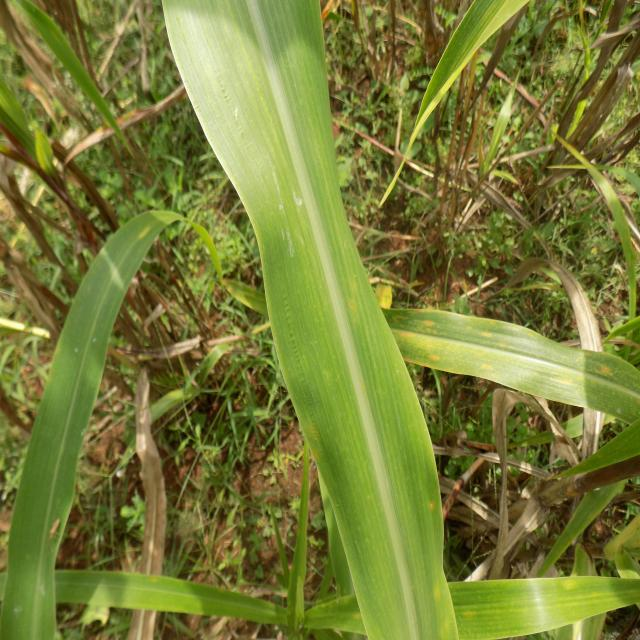millet_healthy: (159, 0, 462, 640), (0, 197, 223, 640), (344, 302, 640, 430)
